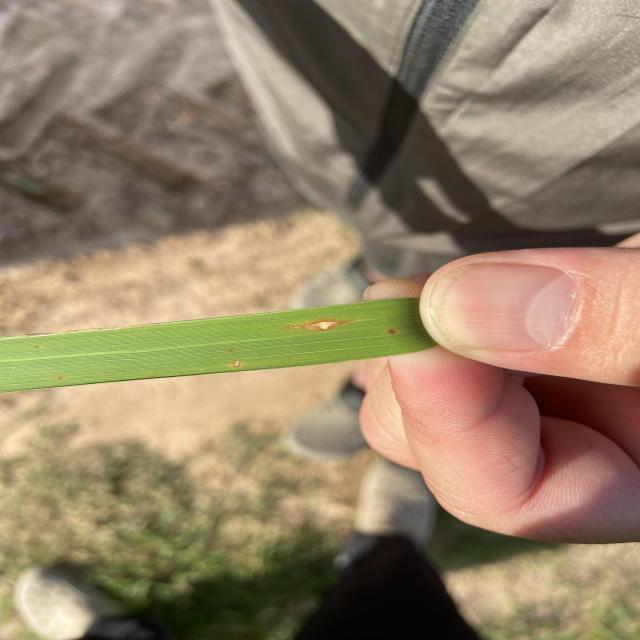Dao on: (290, 320, 352, 331), (232, 360, 242, 367), (390, 329, 397, 334)
